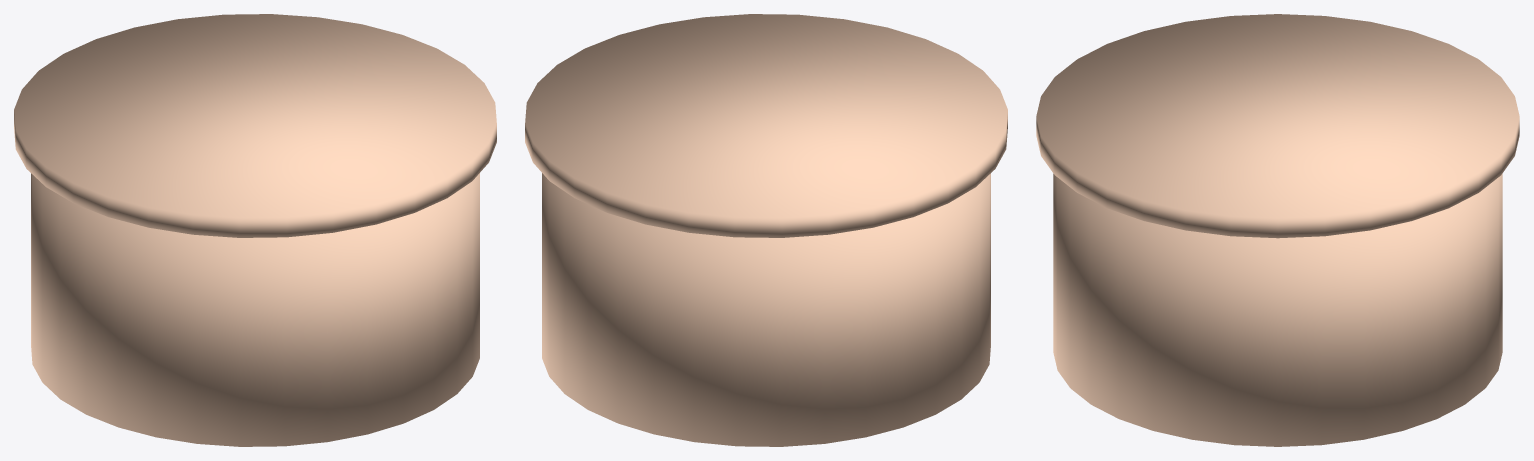
Rendered from Lollipop_Display.fbx.
3 renders of one model, left to right at view 1: azimuth 30°, elevation 25°; view 2: azimuth 150°, elevation 25°; view 3: azimuth 270°, elevation 25°, orthographic.
Parts seen in each view (by area): view 1: Lollipop_Spot.001; view 2: Lollipop_Spot.001; view 3: Lollipop_Spot.001.
Boxes of the visible parts, left/top/right/bottom form: Lollipop_Spot.001: left=14, top=14, right=496, bottom=446; Lollipop_Spot.001: left=525, top=14, right=1007, bottom=446; Lollipop_Spot.001: left=1036, top=14, right=1519, bottom=446.
Bounding box in the file's own units: 9.76 × 5.26 × 9.76.
